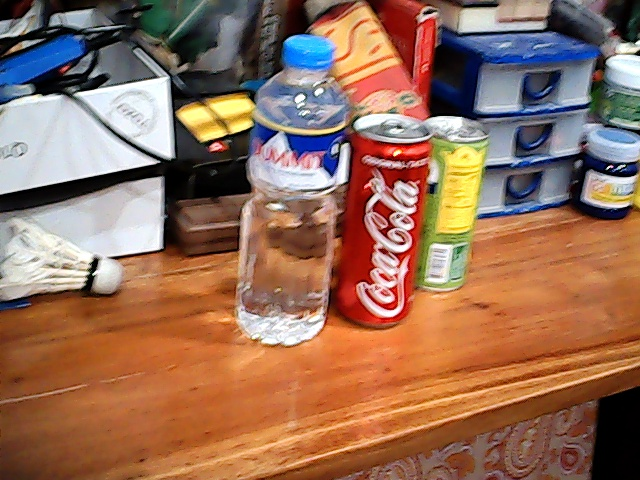Cola: (340, 106, 430, 333)
Pine Juice: (429, 117, 496, 301)
Summit Water: (228, 32, 348, 355)
